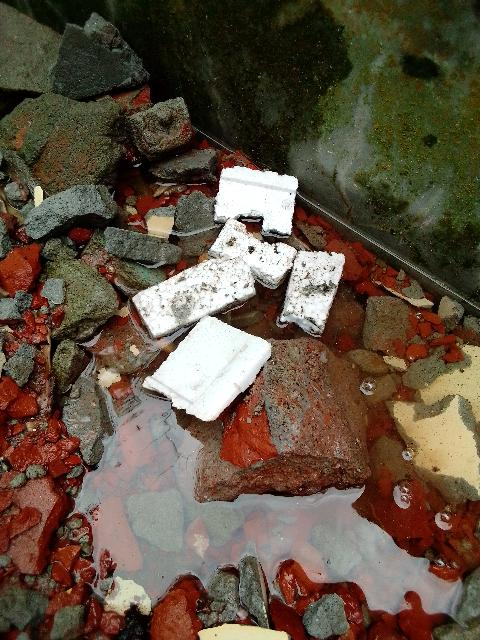cocksheet: (120, 142, 364, 440)
